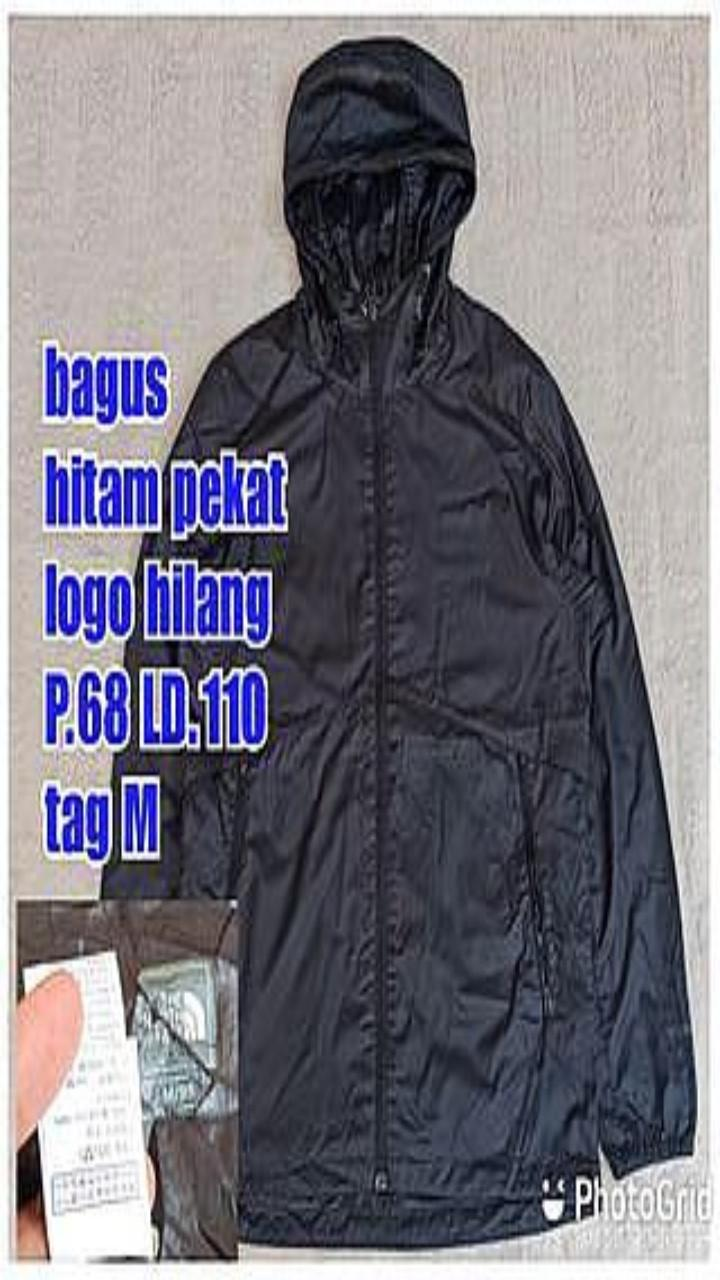Sports_Jacket: (102, 39, 695, 1246)
